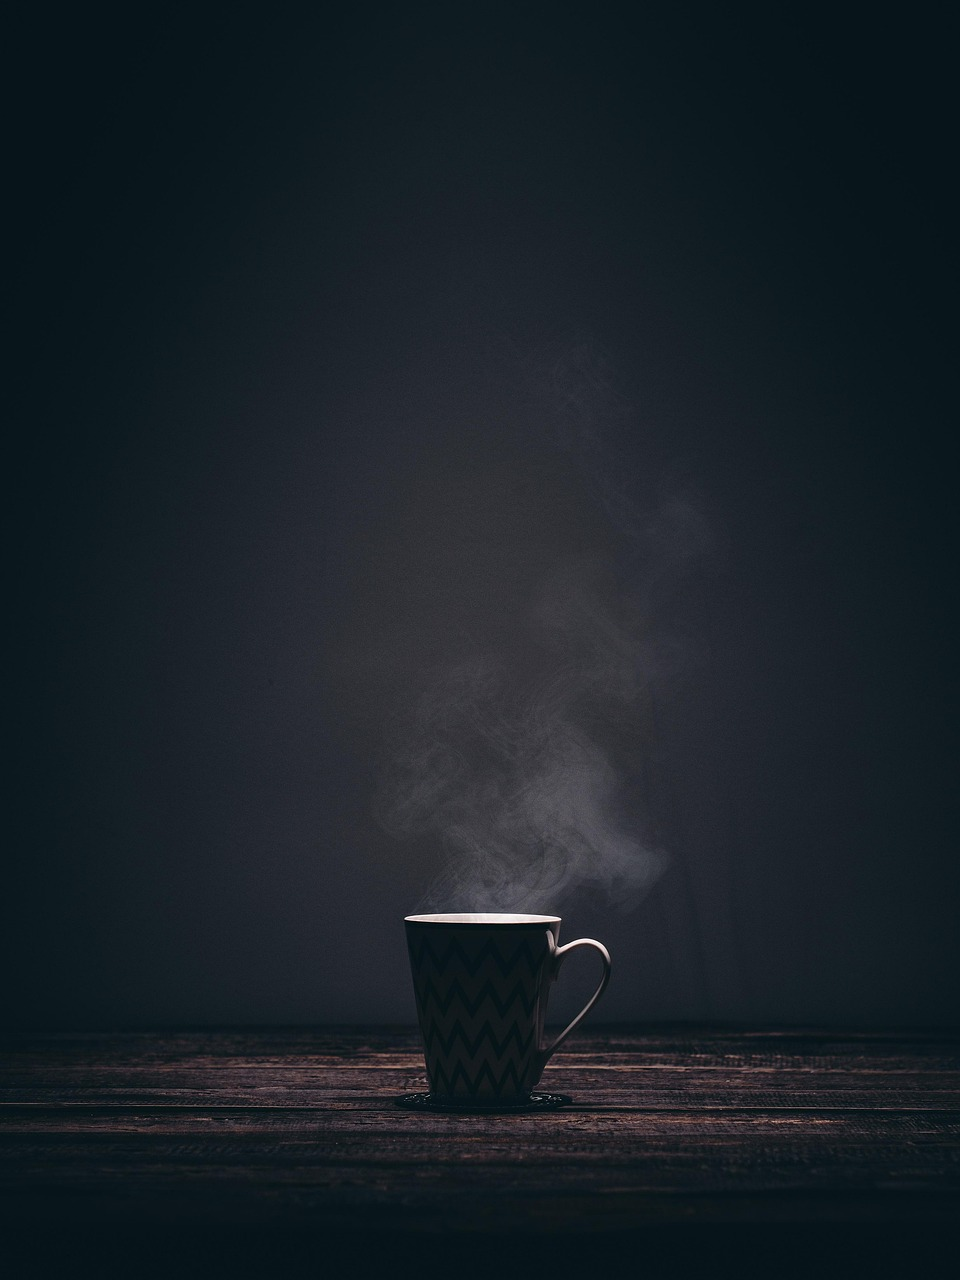mug: (311, 864, 634, 1174)
